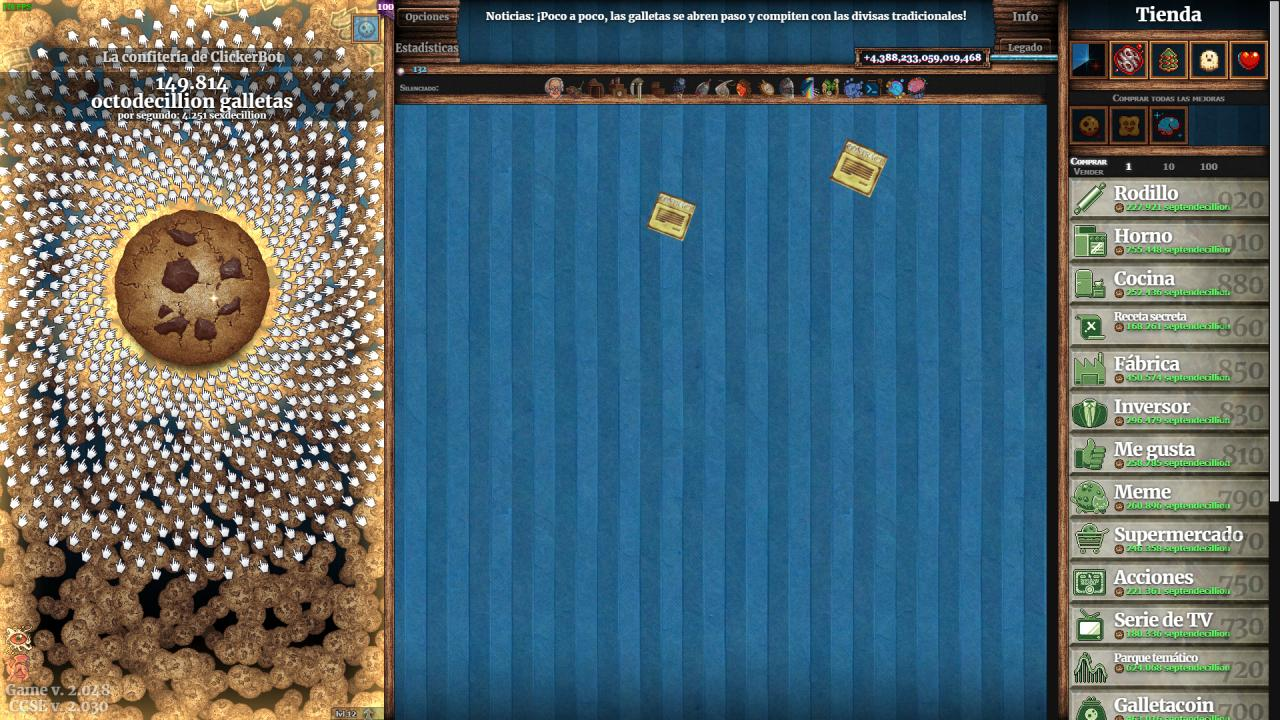GoldenCartridge: (828, 137, 892, 199), (646, 189, 700, 242)
